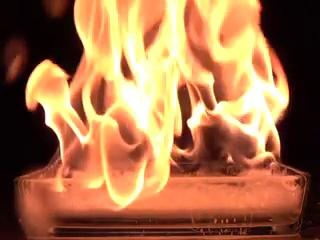Fire: (26, 4, 290, 196)
